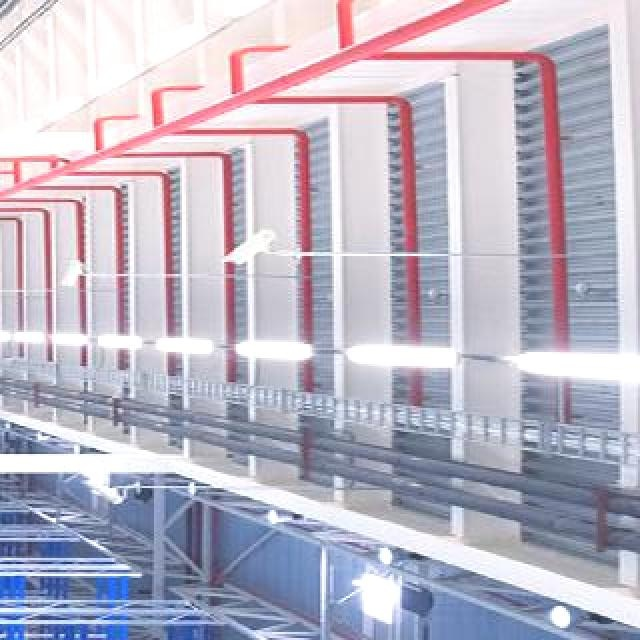fluorescent tube: (345, 333, 475, 395), (507, 340, 640, 391), (236, 326, 322, 386), (140, 329, 216, 375), (99, 324, 157, 351)
